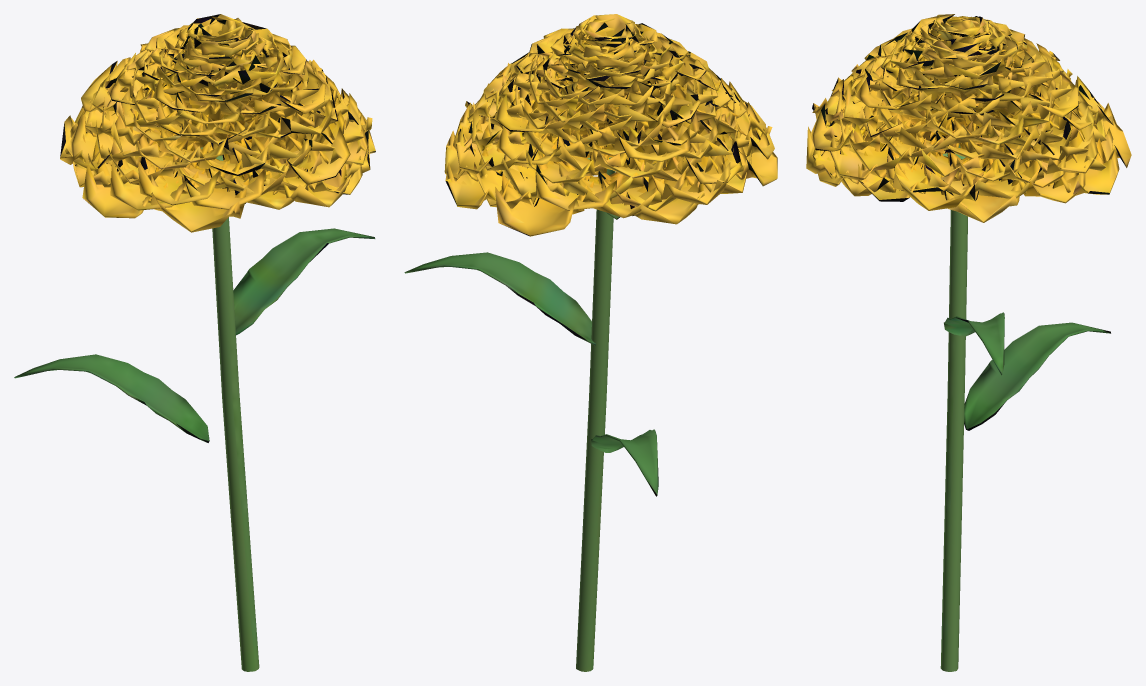
The model's file is marigold.glb.
3 renders of one model, left to right at view 1: azimuth 30°, elevation 25°; view 2: azimuth 150°, elevation 25°; view 3: azimuth 270°, elevation 25°, orthographic. The views are drawn at different scales.
Parts seen in each view (by area): view 1: marigold_baked; view 2: marigold_baked; view 3: marigold_baked.
Boxes of the visible parts, <box> form: marigold_baked: <box>14,14,375,671</box>; marigold_baked: <box>404,14,777,671</box>; marigold_baked: <box>806,14,1131,671</box>.
Size of the model in its own units: 0.1674 by 0.3206 by 0.1485.
1 material, 1 textured.
